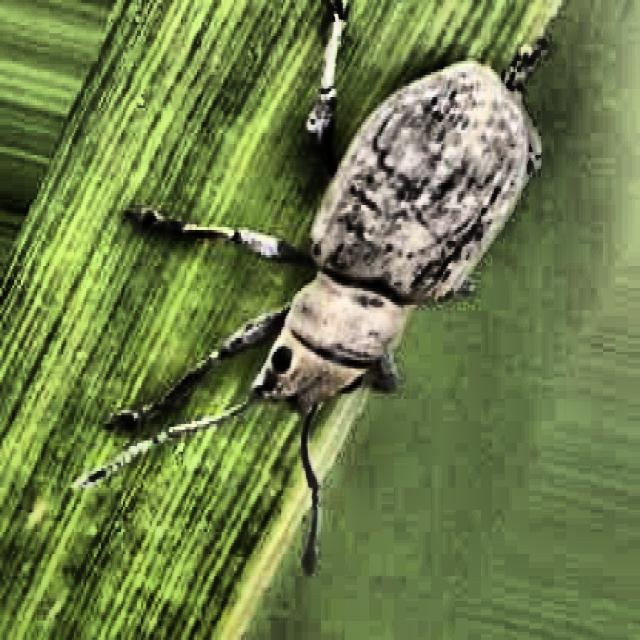Stink bug: (181, 9, 557, 522)
